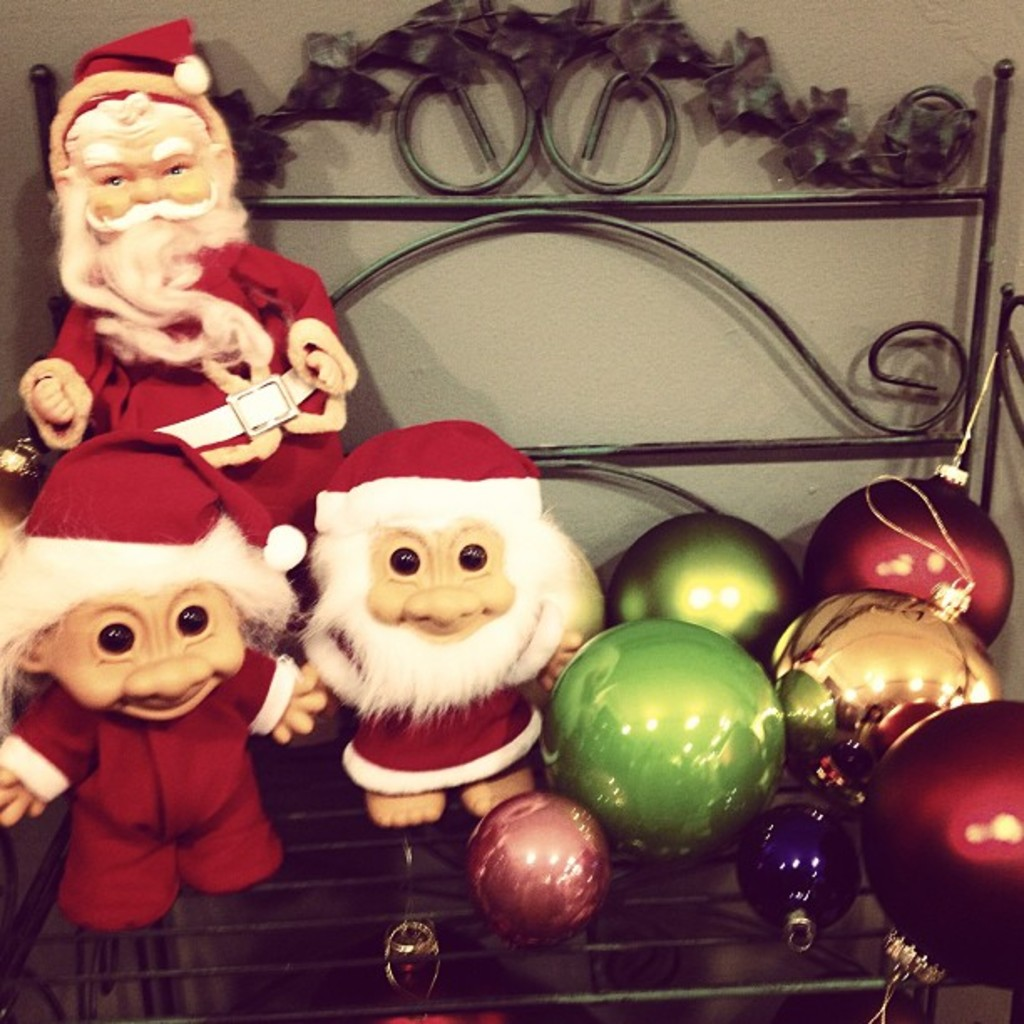Person: (18, 16, 361, 666), (0, 428, 329, 935), (299, 416, 585, 828)
